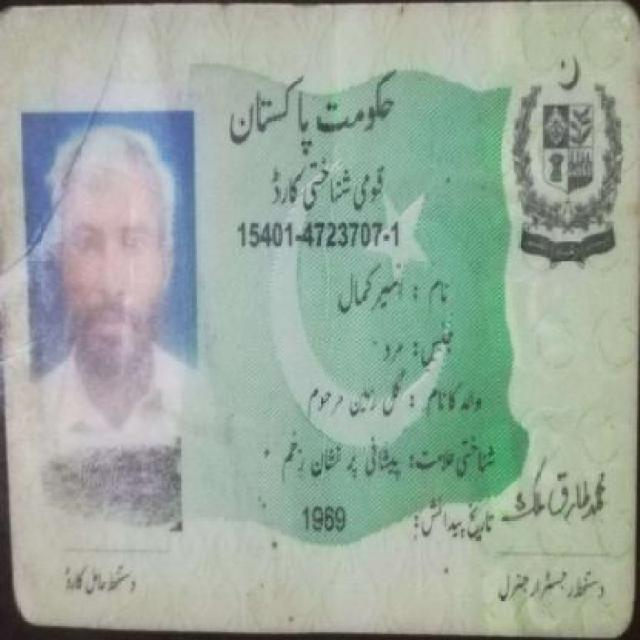Front: (3, 14, 628, 634)
